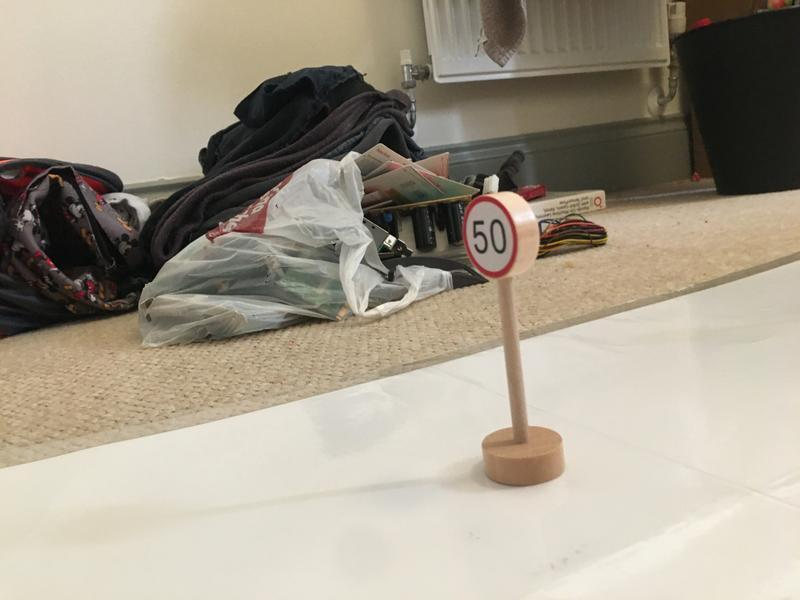Traffic_Sign_50: (461, 197, 517, 277)
